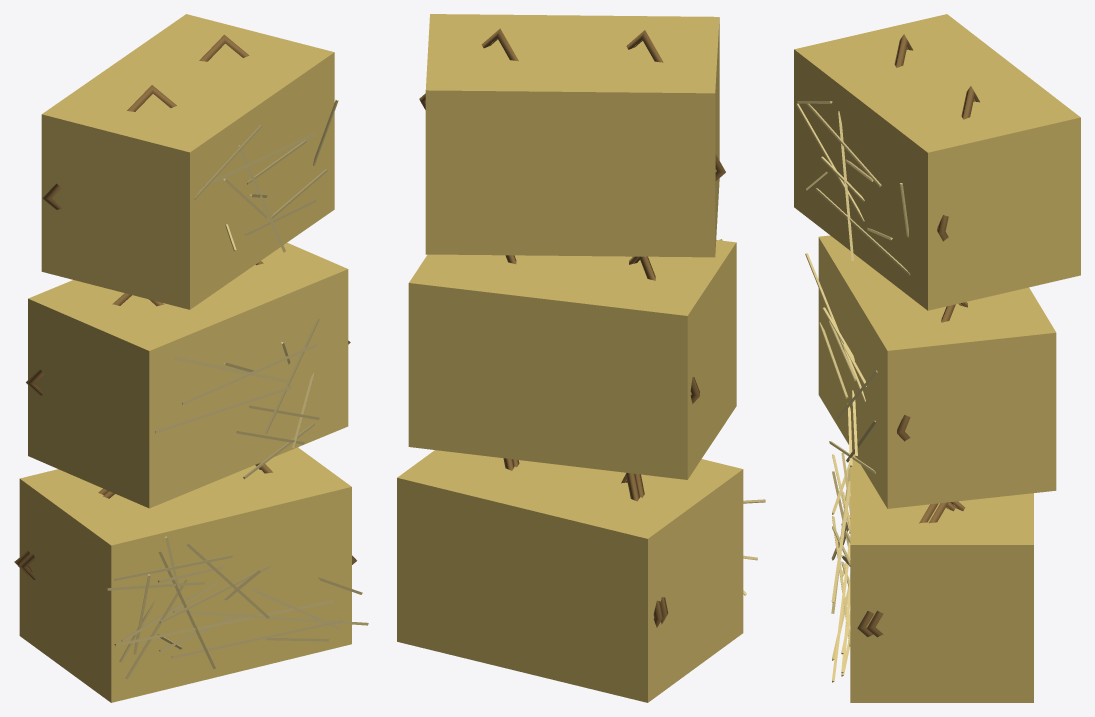
File: Byproduct_Straw.fbx
3 renders of one model, left to right at view 1: azimuth 30°, elevation 25°; view 2: azimuth 150°, elevation 25°; view 3: azimuth 270°, elevation 25°, orthographic. The views are drawn at different scales.
Visible parts, largest first — view 1: Byproduct_Straw__Stack, Byproduct_Straw; view 2: Byproduct_Straw__Stack, Byproduct_Straw; view 3: Byproduct_Straw__Stack, Byproduct_Straw.
Part boxes in pixels (x1,y1,x2,y2): Byproduct_Straw__Stack: [19, 14, 368, 702]; Byproduct_Straw: [14, 448, 362, 699]; Byproduct_Straw__Stack: [408, 14, 765, 698]; Byproduct_Straw: [397, 450, 738, 702]; Byproduct_Straw__Stack: [794, 14, 1080, 702]; Byproduct_Straw: [841, 453, 1033, 702].
Bounding box in the file's own units: 0.1949 × 0.3848 × 0.1645.
